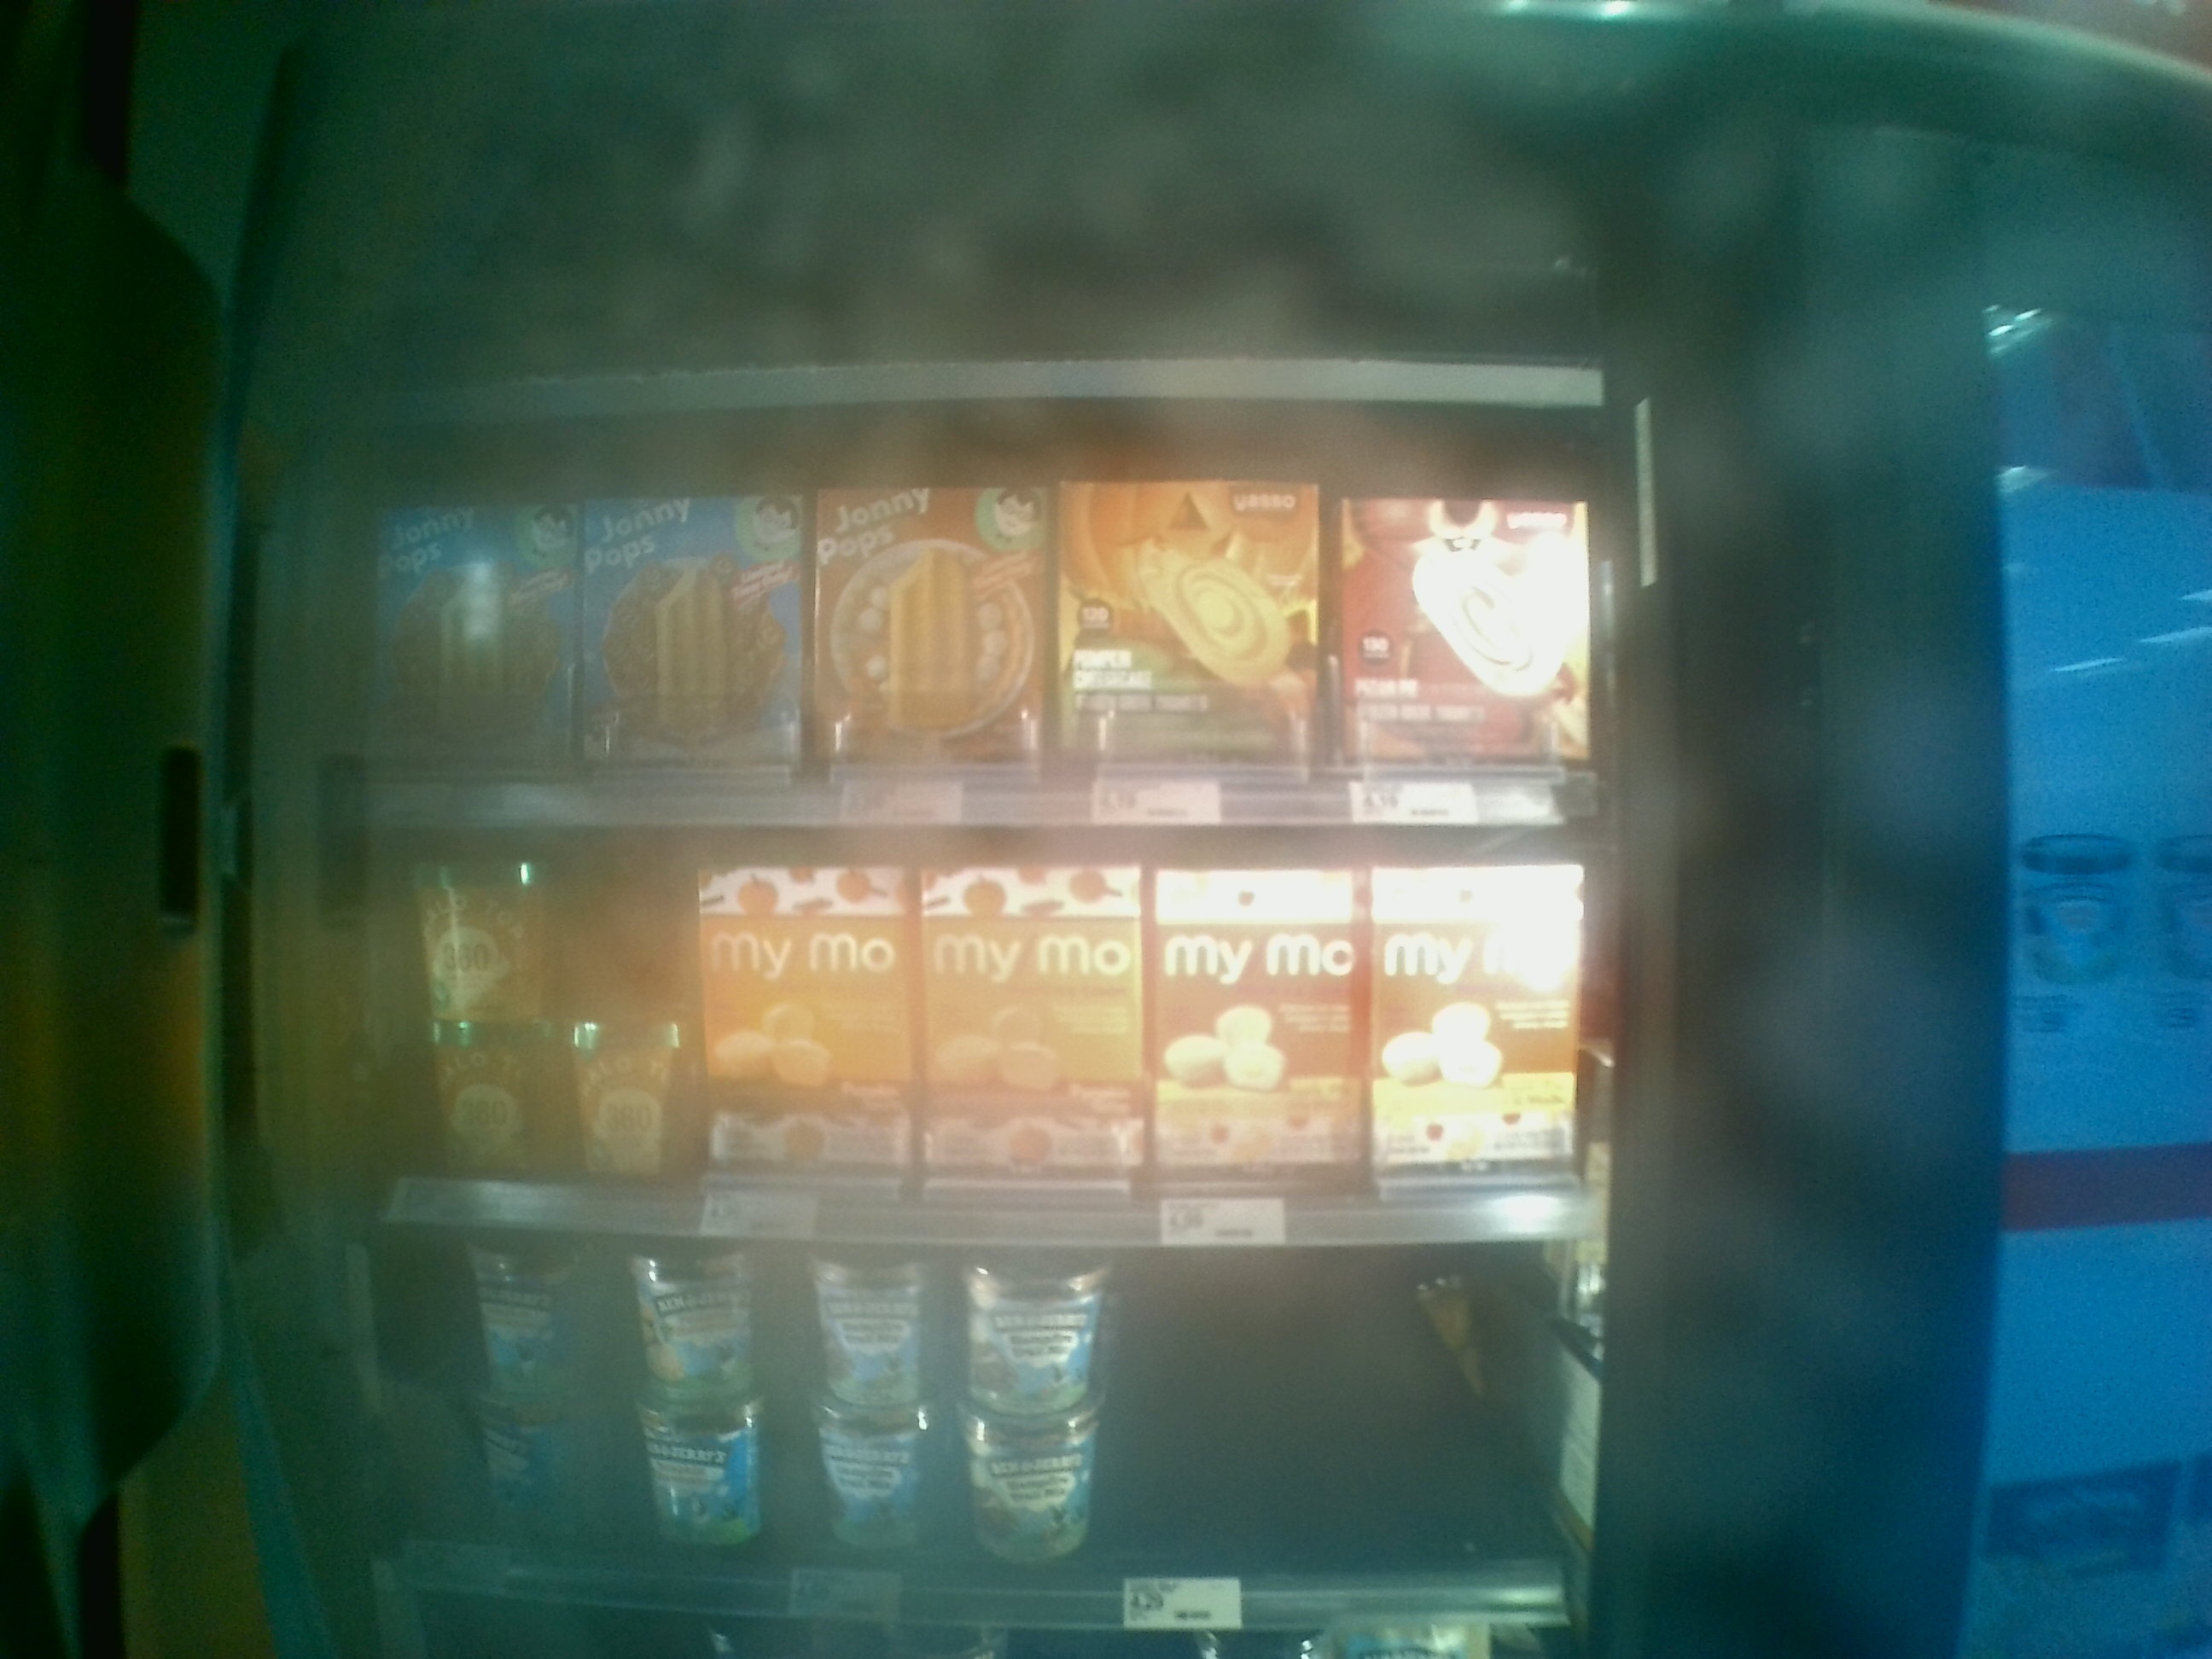shelf: (301, 817, 1615, 1243), (319, 406, 1613, 829), (308, 1201, 1602, 1624)
